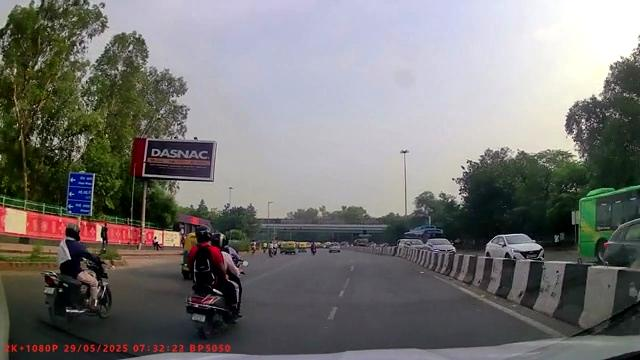motorcycle_with_helmet: (45, 221, 114, 328)
passenger_with_helmet: (187, 225, 243, 338)
